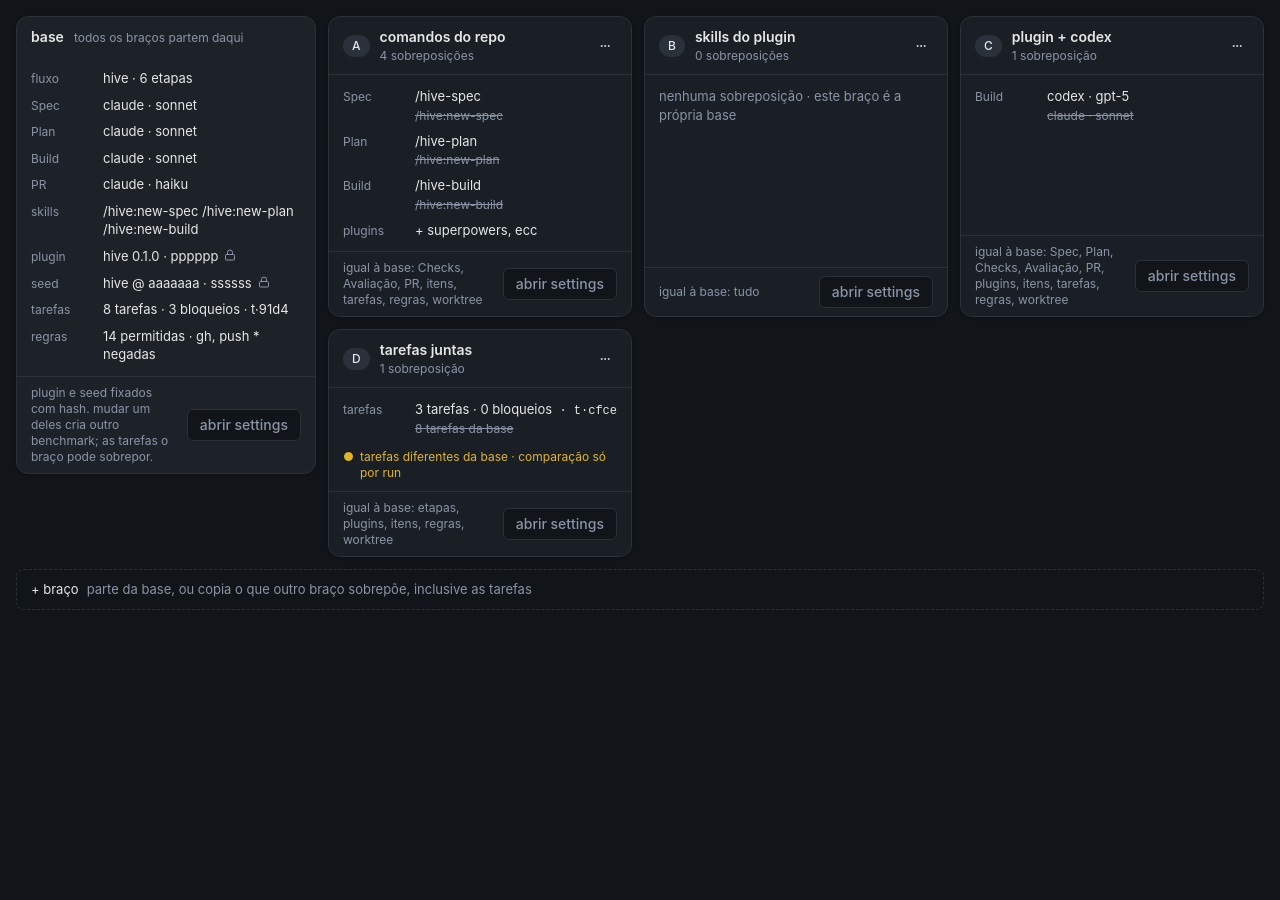
Scenario: abrir settings opens the arm's settings, and on the base card the base mode (#462)
Click the button "abrir settings" below "codex · gpt-5". click: {"x": 1192, "y": 276}
box: [1135,260,1249,292]
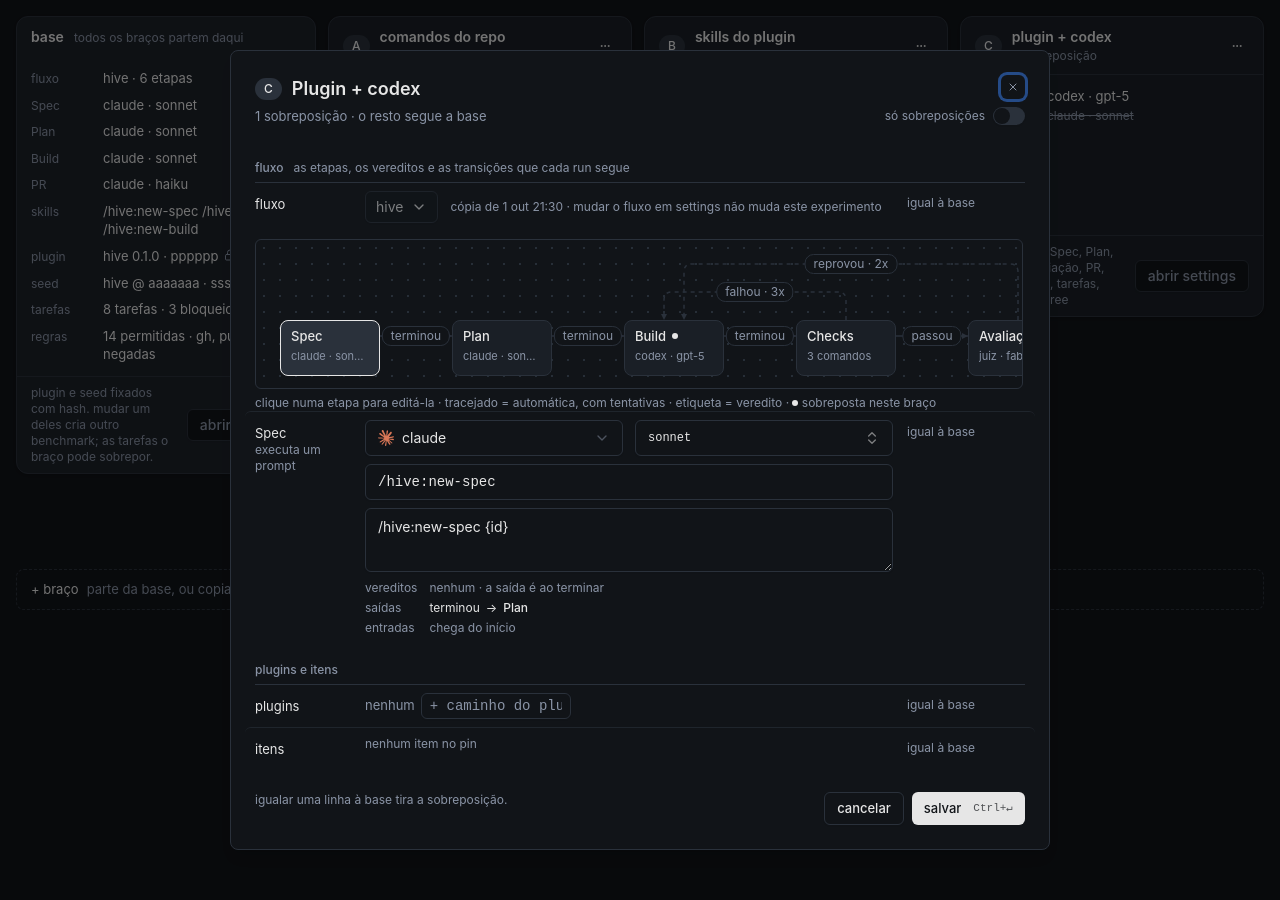
Expected: the dialog "C Plugin + codex" is shown, [230,50,1050,850]
Click the button named "cancelar". click: {"x": 1013, "y": 87}
box: [1001,75,1025,99]
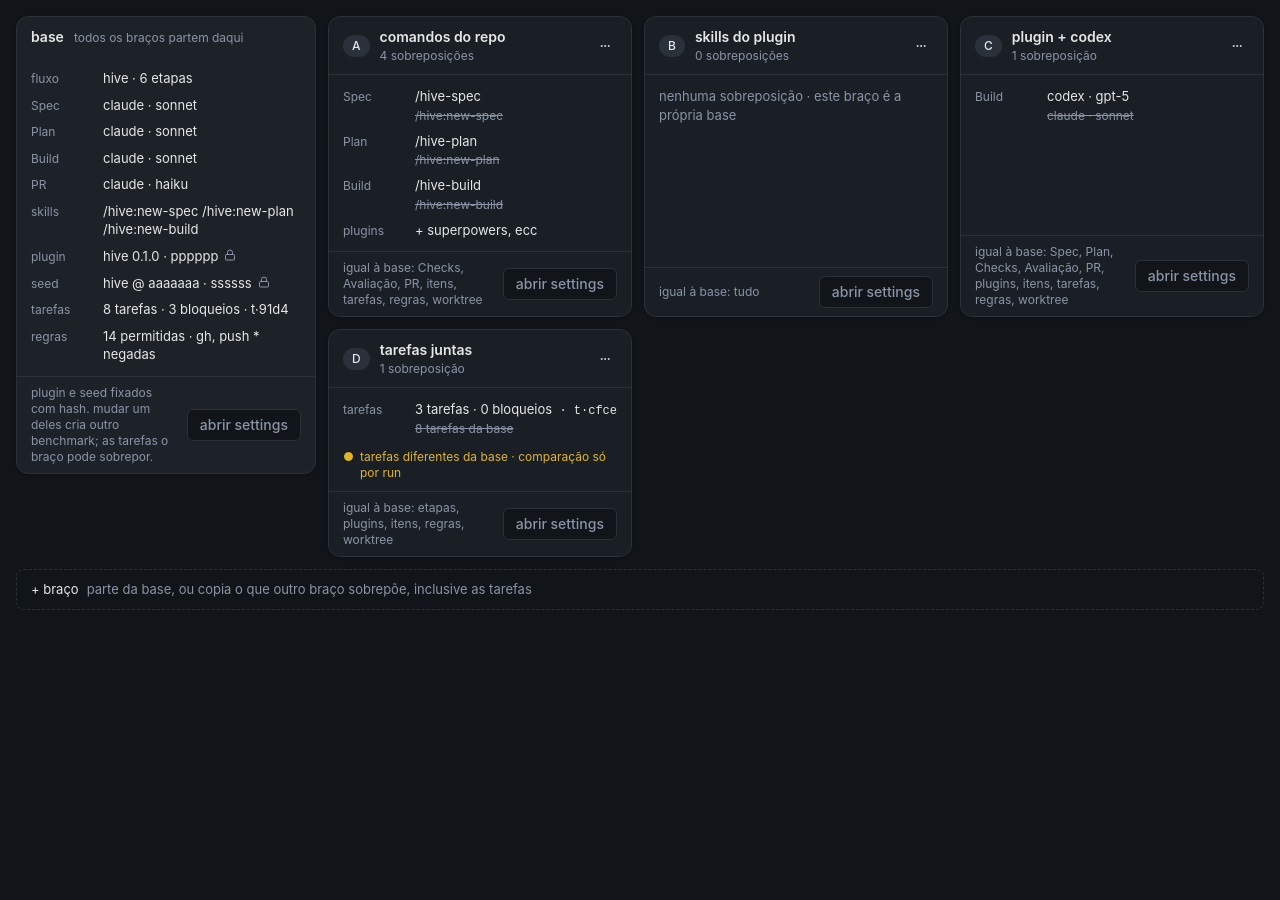
Click the button "abrir settings" below "14 permitidas · gh, push * negadas". click: {"x": 244, "y": 425}
box: [187,409,301,441]
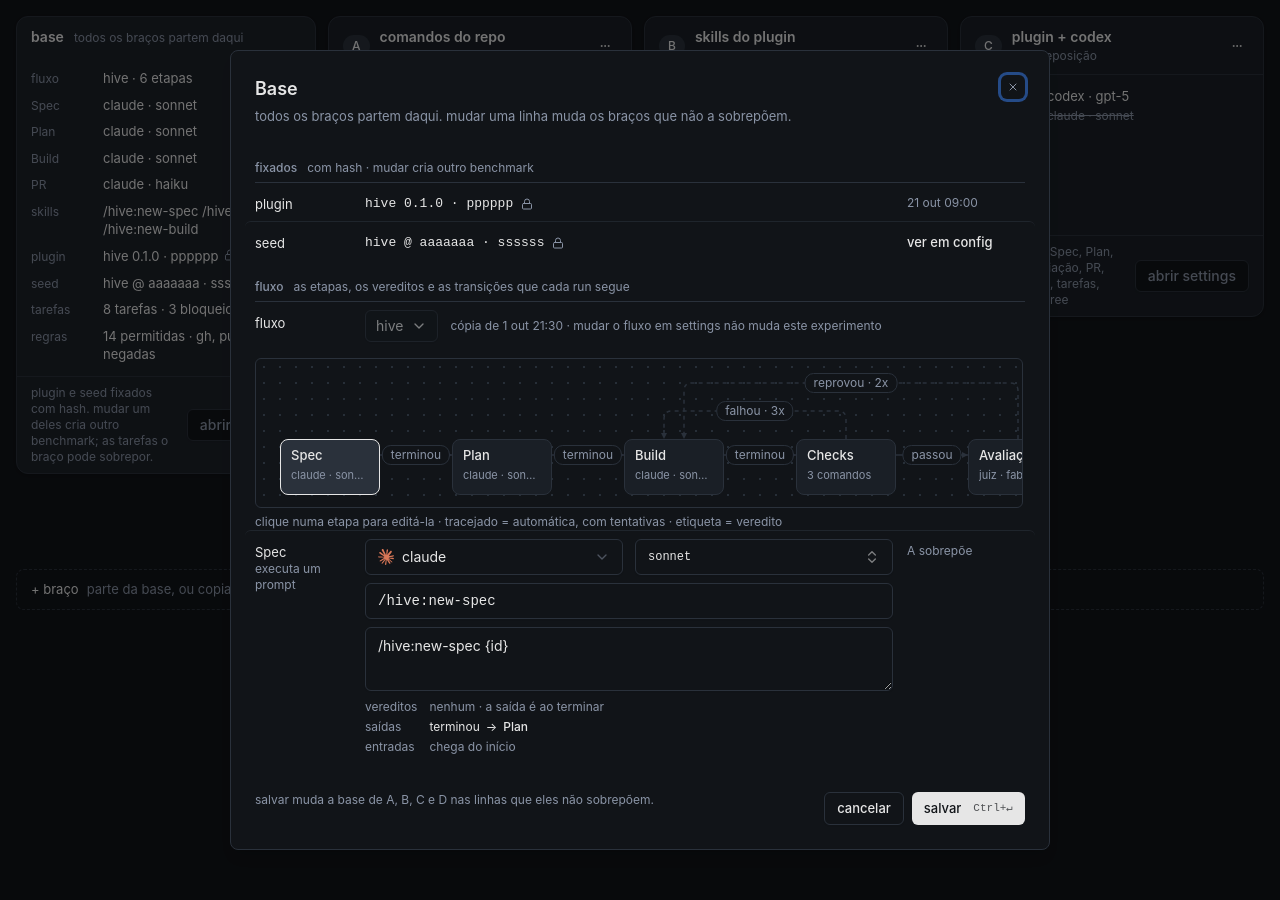
Expected: the dialog "Base" is shown, [230,50,1050,850]
